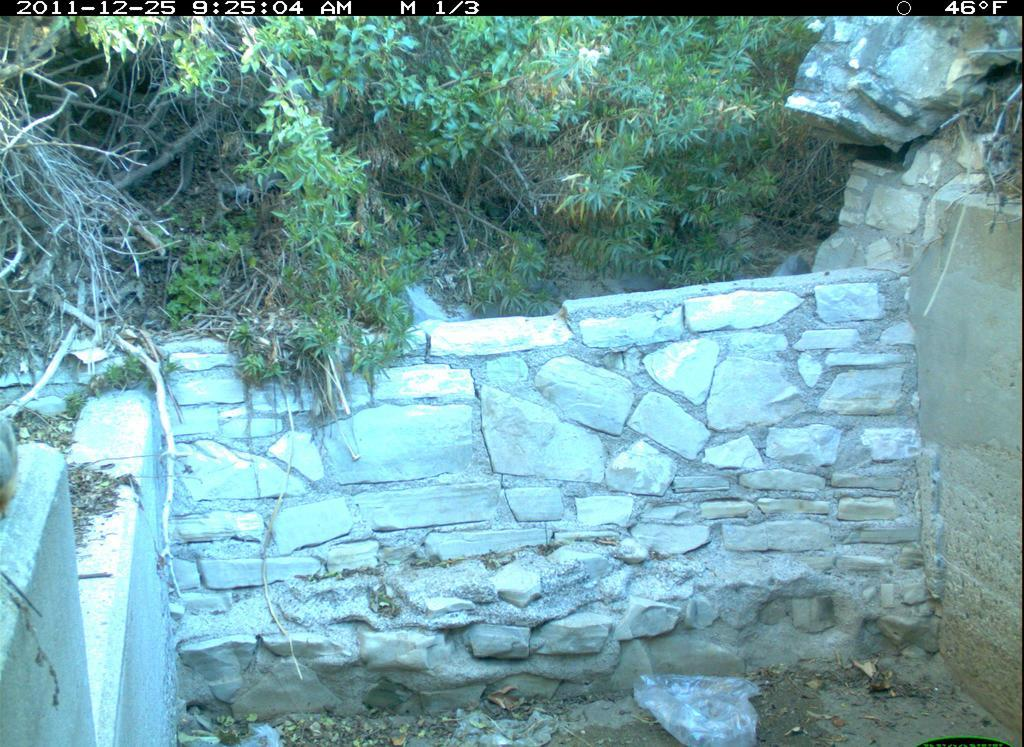squirrel: (1, 404, 24, 521)
